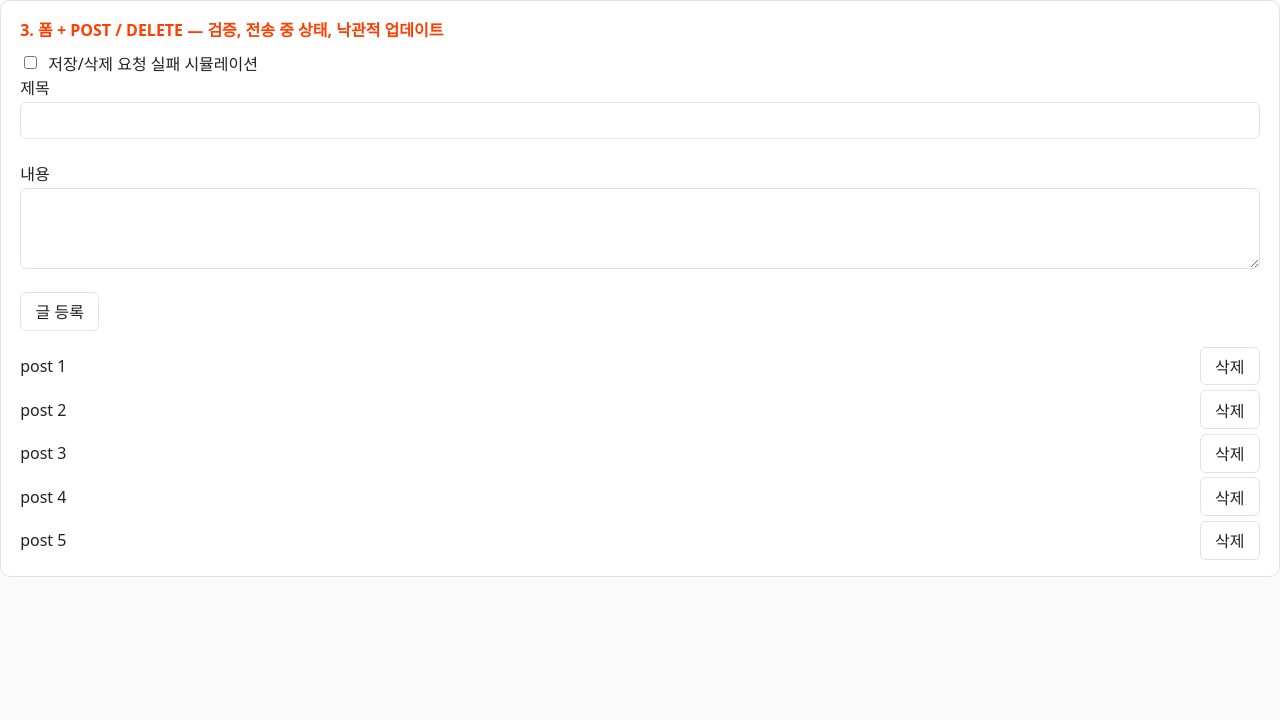
Test case: PostManager (study8) — 폼 검증, POST, 낙관적 삭제 › 삭제는 응답을 기다리지 않고 먼저 화면에서 사라진다 (낙관적 업데이트)
The width and height of the screenshot is (1280, 720).
expect the text "post 1" is shown: met, box [20,355,66,377]
Click the button "삭제" in the row of "post 1": (1230, 366) [1200,347,1260,386]
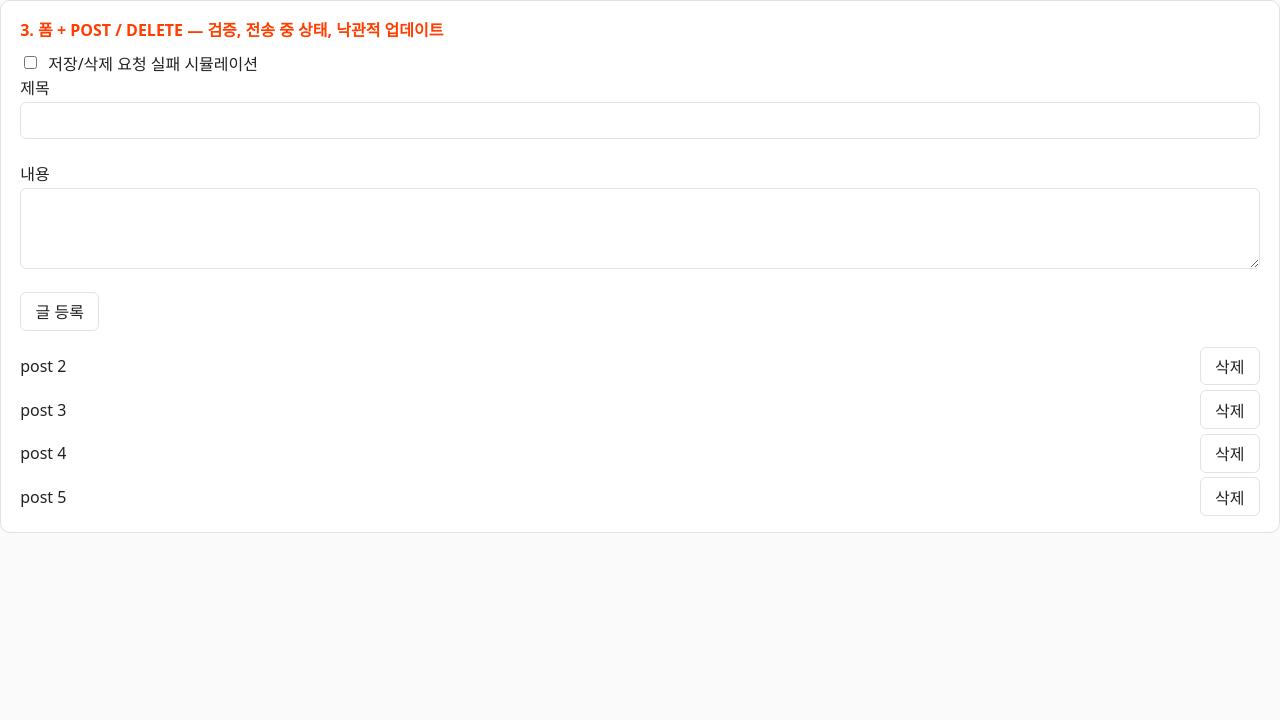
expect the number of list items is 4: met, box [20,347,1260,386]; [20,390,1260,429]; [20,434,1260,473]; [20,477,1260,516]
expect the text "post 1" is gone: met
